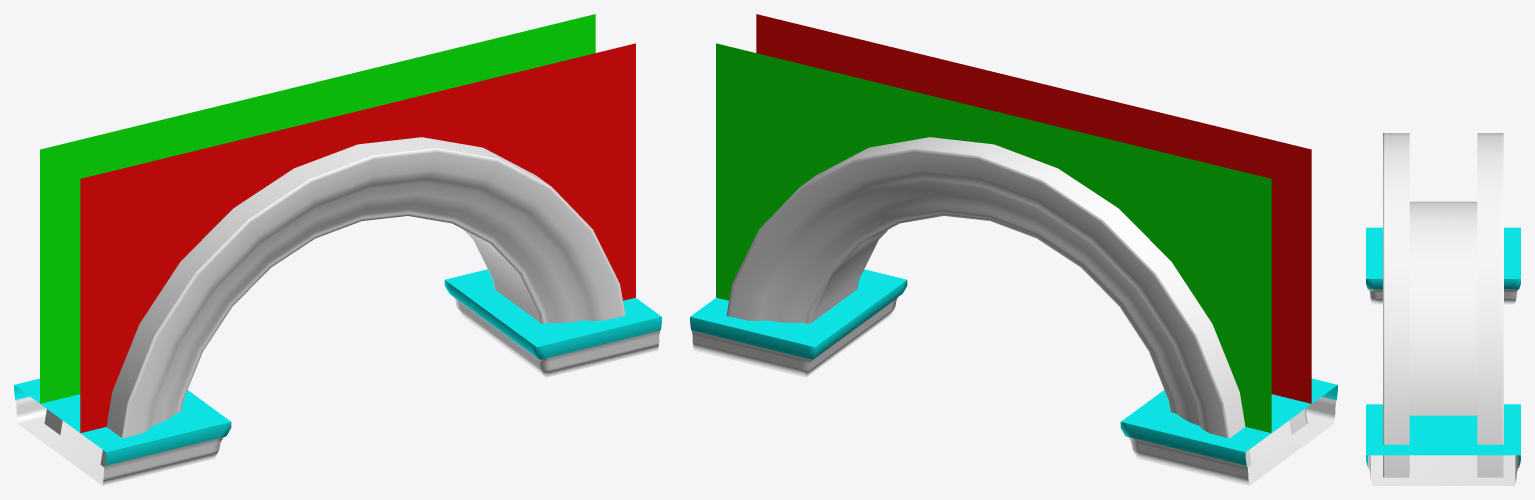
File: SM_FriezeArchDualOpen4m.fbx
3 views of the same model, side by side, from view 1: azimuth 30°, elevation 25°; view 2: azimuth 150°, elevation 25°; view 3: azimuth 270°, elevation 25° (orthographic). The views are drawn at different scales.
Visible parts, largest first — view 1: SM_FriezeArchDualOpen4m; view 2: SM_FriezeArchDualOpen4m; view 3: SM_FriezeArchDualOpen4m.
Part boxes in pixels (x1,y1,x2,y2): SM_FriezeArchDualOpen4m: (14, 14, 661, 485); SM_FriezeArchDualOpen4m: (690, 14, 1337, 485); SM_FriezeArchDualOpen4m: (1366, 133, 1520, 485).
Bounding box in the file's own units: 400 × 200 × 115.
